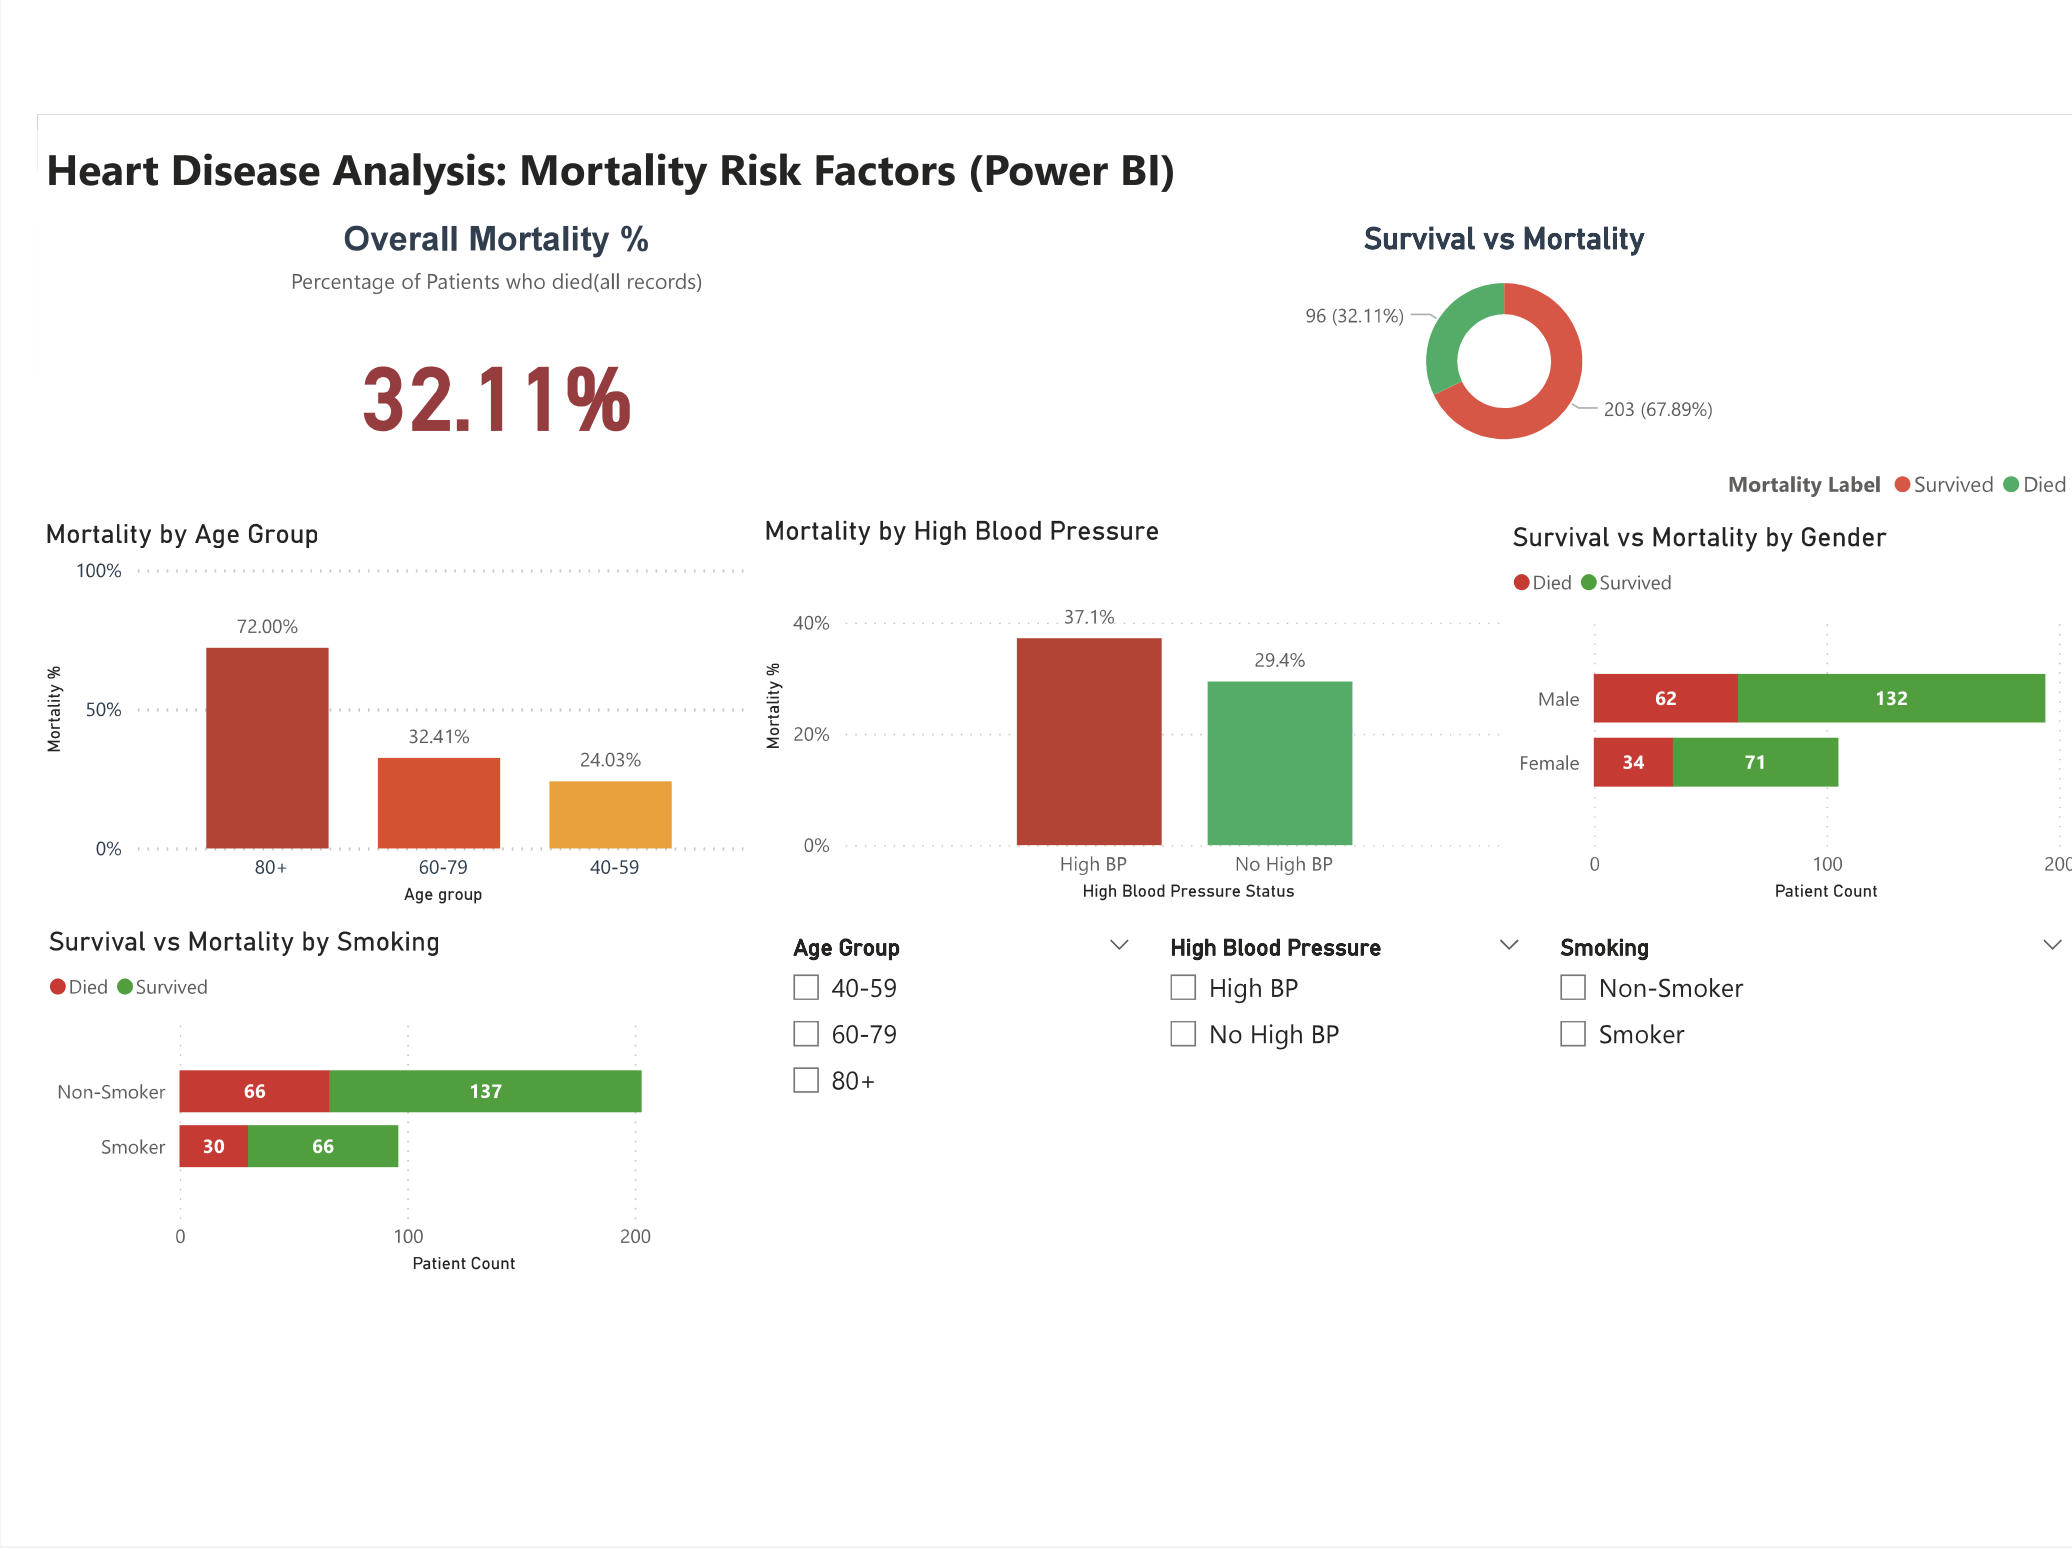

This screenshot's page, from the dashboard's own definition file:
{"tool":"powerbi","page":{"name":"Page 1","canvas":[1280,720],"ordinal":0},"visuals":[{"type":"card","title":"Overall Mortality %","fields":{"Values":["heart_disease.Mortality %"]},"box":[9.8,56.2,555,183.4],"z":0},{"type":"donutChart","title":"Survival vs Mortality","fields":{"Y":["CountNonNull(heart_disease.mortality label)"],"Category":["heart_disease.mortality label"]},"box":[556.2,56.2,723.7,183.4],"z":1},{"type":"clusteredColumnChart","title":"Mortality by Age Group","fields":{"Category":["heart_disease.Age Group"],"Y":["heart_disease.Mortality %"]},"box":[0,242,449.8,246.9],"z":2},{"type":"clusteredColumnChart","title":"Mortality by High Blood Pressure","fields":{"Category":["heart_disease.high_blood_pressure"],"Y":["heart_disease.Mortality %"]},"box":[449.8,239.6,490.2,246.9],"z":3},{"type":"barChart","title":"Survival vs Mortality by Gender","fields":{"Category":["heart_disease.Gender Label"],"Series":["heart_disease.mortality label"],"Y":["CountNonNull(heart_disease.mortality)"]},"box":[918,244.5,361.8,242],"z":4},{"type":"barChart","title":"Survival vs Mortality by Smoking","fields":{"Category":["heart_disease.Smoking status"],"Series":["heart_disease.mortality label"],"Y":["CountNonNull(heart_disease.mortality)"]},"box":[2,497,458,223],"z":5},{"type":"slicer","fields":{"Values":["heart_disease.Age Group"]},"box":[459.6,497.5,235.9,222.5],"z":6},{"type":"slicer","fields":{"Values":["heart_disease.high_blood_pressure"]},"box":[696,498,244,222],"z":7},{"type":"slicer","fields":{"Values":["heart_disease.Smoking status"]},"box":[940,498,340,222],"z":8},{"type":"textbox","box":[0,0,1279.9,56.2],"z":9}]}

Visuals, with their boxes on the page's 1280x720 design canvas (x1, y1, x2, y2). These are canvas units, not pixel positions in the 2072x1548 screenshot, which may show the page scaled, cropped or inside an application window:
"Overall Mortality %" card: <box>10,56,565,240</box>
"Survival vs Mortality" donutChart: <box>556,56,1280,240</box>
"Mortality by Age Group" clusteredColumnChart: <box>0,242,450,489</box>
"Mortality by High Blood Pressure" clusteredColumnChart: <box>450,240,940,486</box>
"Survival vs Mortality by Gender" barChart: <box>918,244,1280,486</box>
"Survival vs Mortality by Smoking" barChart: <box>2,497,460,720</box>
slicer - heart_disease.Age Group: <box>460,498,696,720</box>
slicer - heart_disease.high_blood_pressure: <box>696,498,940,720</box>
slicer - heart_disease.Smoking status: <box>940,498,1280,720</box>
textbox: <box>0,0,1280,56</box>
